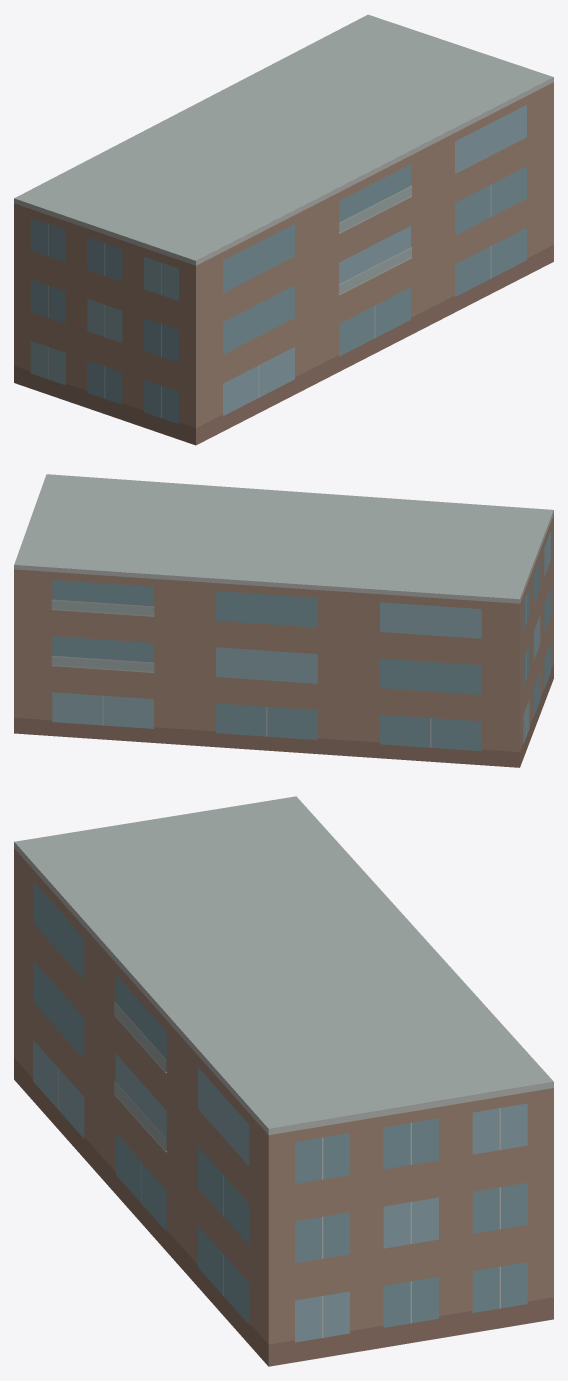
File: survey-upis-32858612.glb
3 renders of one model, top to bottom at view 1: azimuth 30°, elevation 25°; view 2: azimuth 150°, elevation 25°; view 3: azimuth 270°, elevation 25°, orthographic. The views are drawn at different scales.
Visible parts, largest first — view 1: survey-upis-32858612.tmp; view 2: survey-upis-32858612.tmp; view 3: survey-upis-32858612.tmp.
Part boxes in pixels (x1,y1,x2,y2): survey-upis-32858612.tmp: [14, 14, 553, 445]; survey-upis-32858612.tmp: [14, 474, 553, 767]; survey-upis-32858612.tmp: [14, 796, 553, 1366].
Size of the model in its own units: 27.46 by 9.15 by 18.83.
